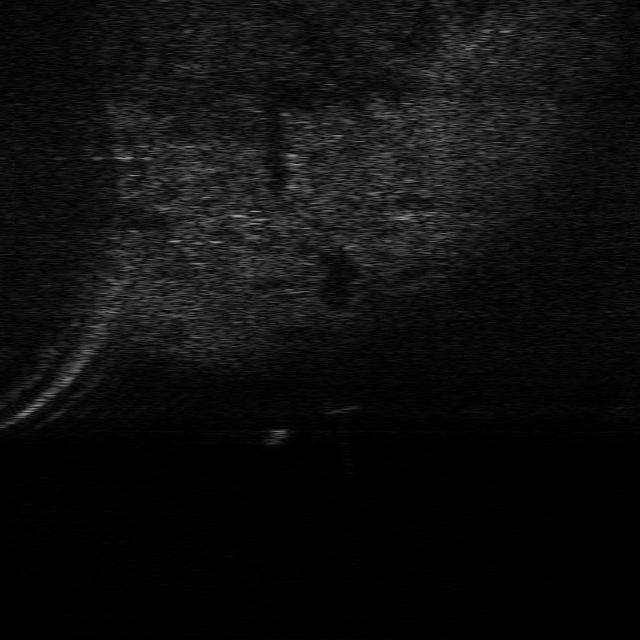cube: (320, 394, 359, 414)
cylinder: (261, 428, 289, 448)
